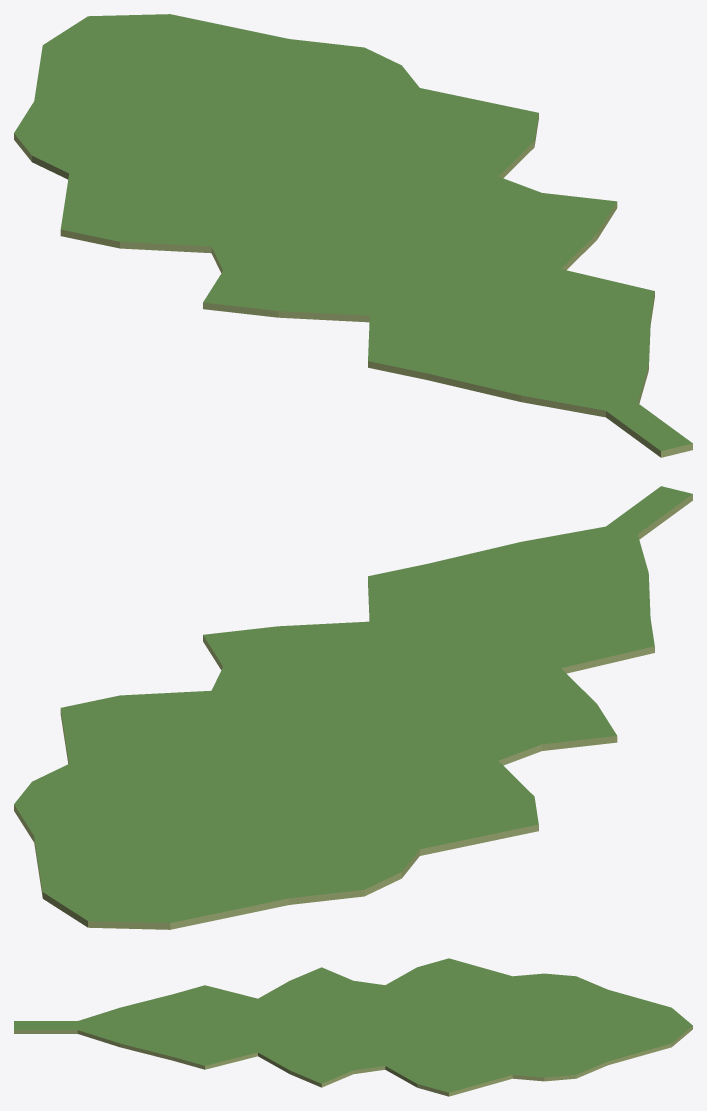
File: OakLeaf.glb
3 renders of one model, top to bottom at view 1: azimuth 30°, elevation 25°; view 2: azimuth 150°, elevation 25°; view 3: azimuth 270°, elevation 25°, orthographic. The views are drawn at different scales.
Parts seen in each view (by area): view 1: oak_leaf; view 2: oak_leaf; view 3: oak_leaf.
Boxes of the visible parts, x1,y1,x2,y2 form: oak_leaf: (14,14,692,457); oak_leaf: (14,486,692,929); oak_leaf: (14,958,692,1096).
Size of the model in its own units: 0.15 by 0.002 by 0.32.
